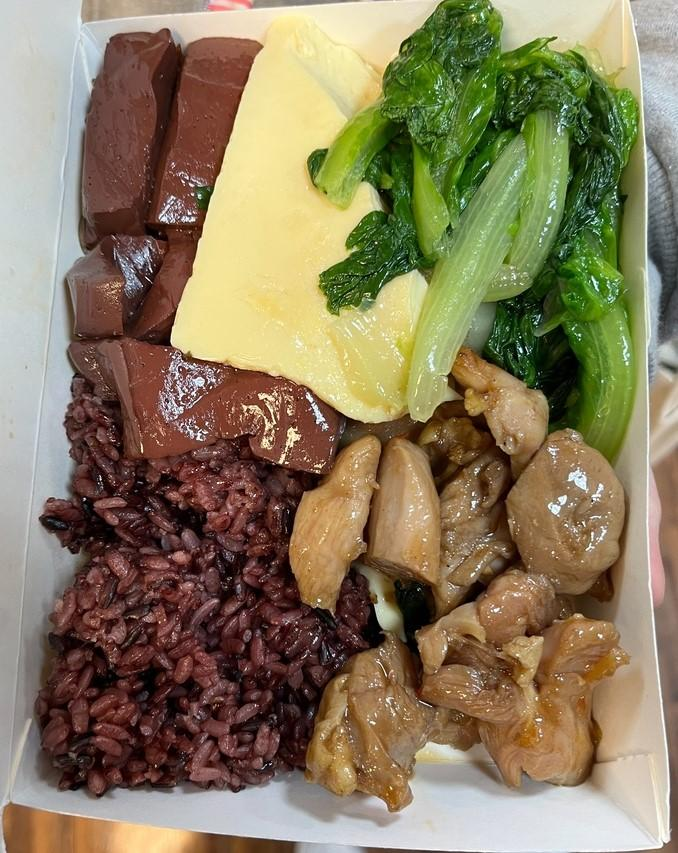big grilled chicken leg: (24, 12, 678, 853)
braised fish: (43, 394, 332, 794)
braised fish fillet: (328, 4, 637, 423), (76, 24, 336, 471), (179, 32, 436, 425)
braised pork: (299, 362, 632, 817)
